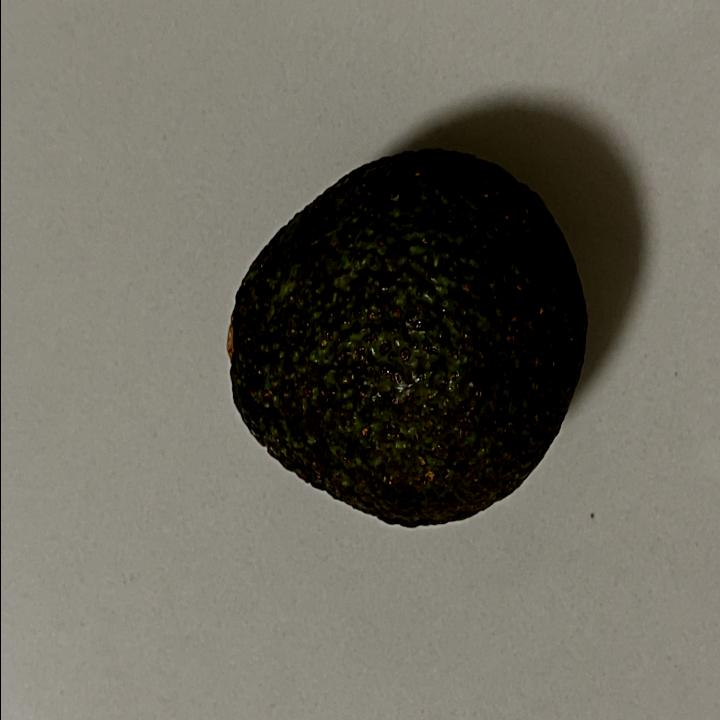Level1: (208, 136, 596, 538)
